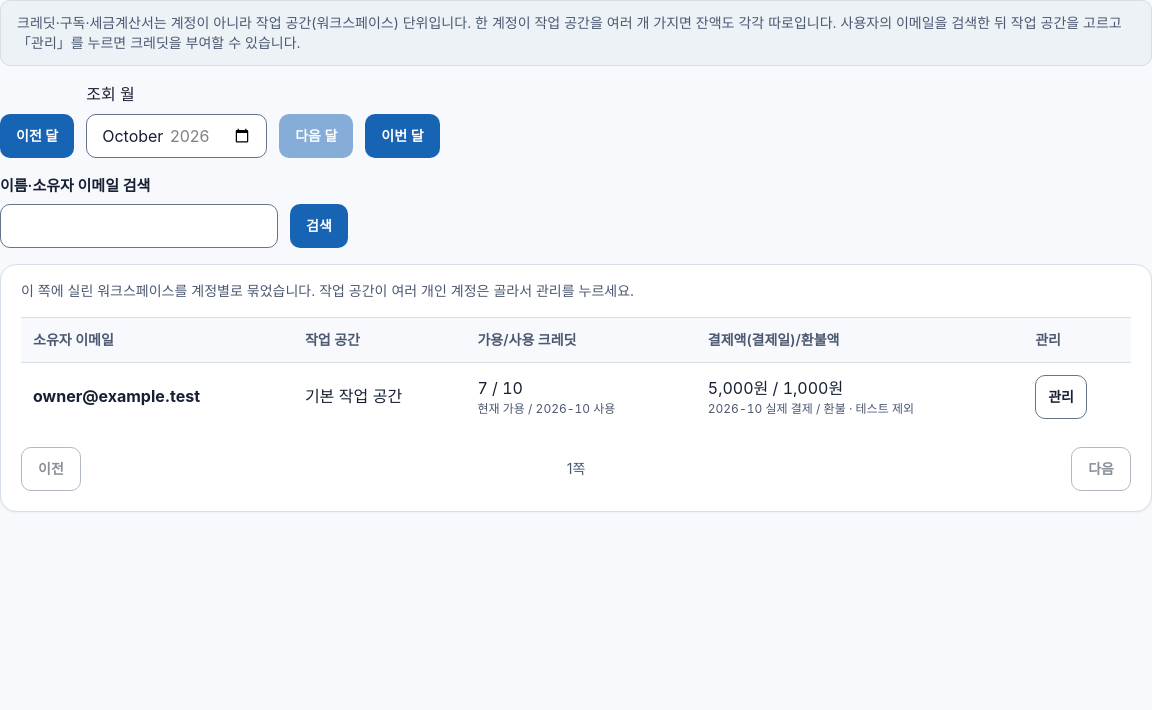
월별 관리자 작업공간 › 결산 장애 중에도 결제 운영과 현재 구독을 확인할 수 있다
Click the button "관리".
click(1061, 397)  # box [1035,375,1087,419]
(page scrolled)
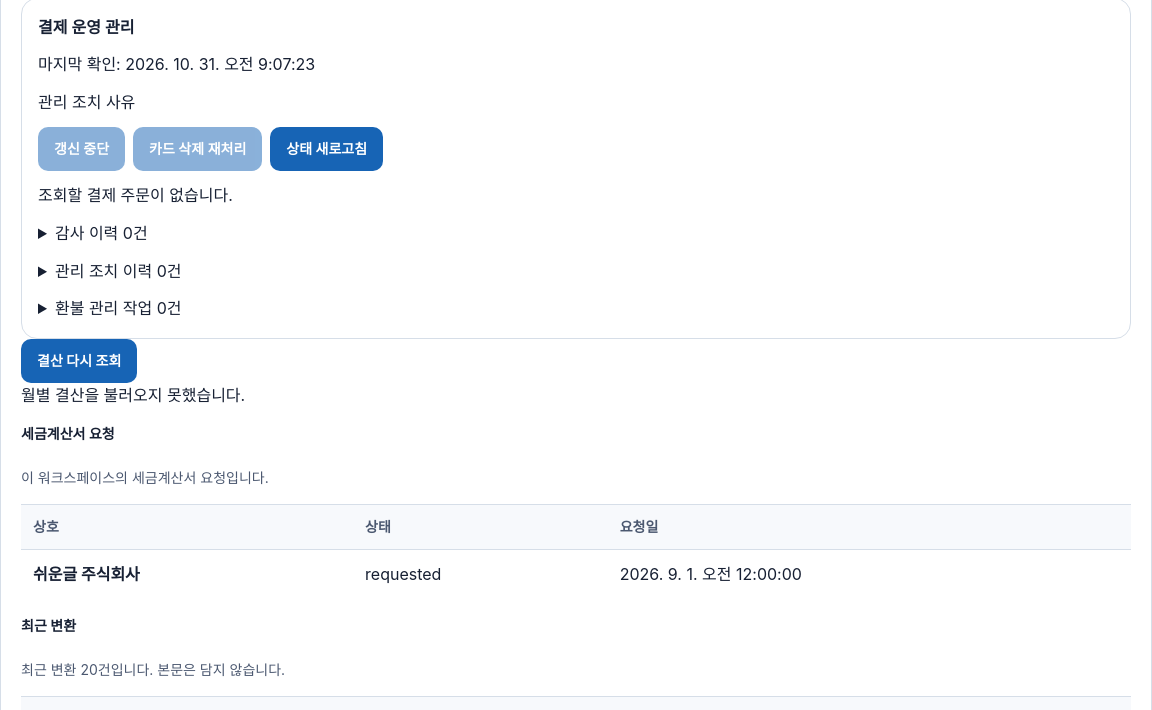
Now the button "상태 새로고침" is enabled, box [270,127,383,171]
Now the button "결산 다시 조회" is shown, box [21,339,137,383]
